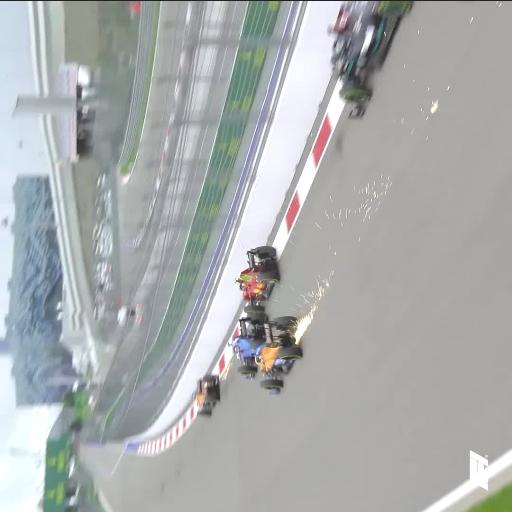f1_car: (330, 0, 411, 118), (254, 315, 302, 393), (229, 305, 267, 378), (235, 245, 278, 304), (191, 374, 219, 417)
